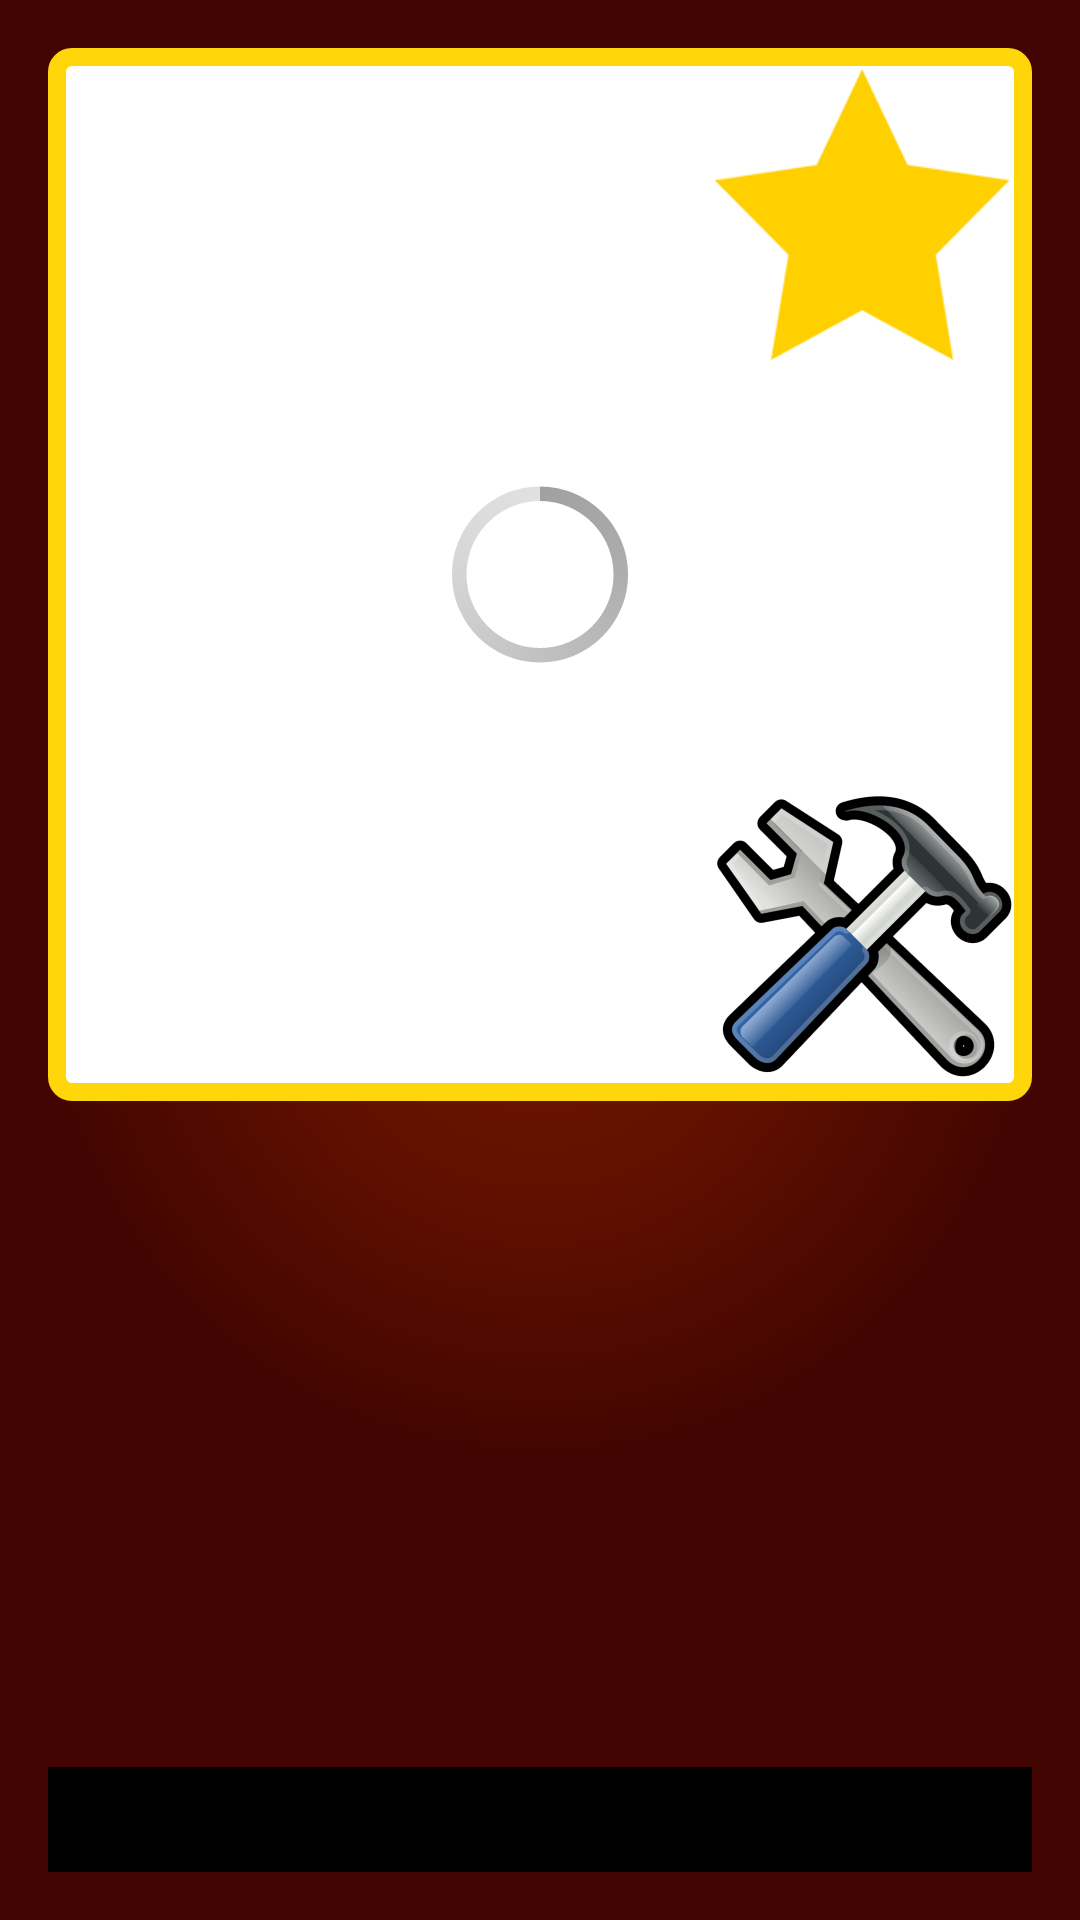

Icons on this 1080x1920 Android screen, each with the point to tap as [x,y]:
spanner: [864,936]
star: [862,214]
